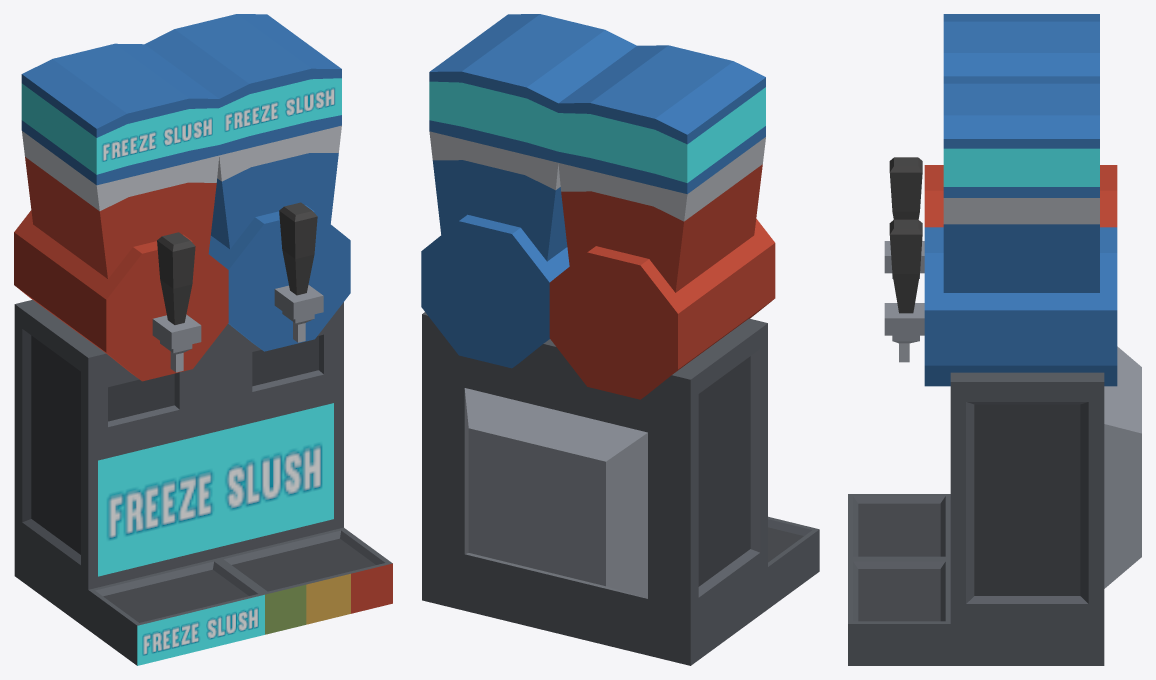
The model's file is SM_Prop_SlushieMachine_01.fbx.
The picture shows the model from 3 angles, left to right: view 1: azimuth 30°, elevation 25°; view 2: azimuth 150°, elevation 25°; view 3: azimuth 270°, elevation 25°; orthographic projection. The views are drawn at different scales.
Visible parts, largest first — view 1: SM_Prop_SlushieMachine_01; view 2: SM_Prop_SlushieMachine_01; view 3: SM_Prop_SlushieMachine_01.
Boxes of the visible parts, left/top/right/bottom form: SM_Prop_SlushieMachine_01: left=14, top=14, right=392, bottom=665; SM_Prop_SlushieMachine_01: left=421, top=14, right=819, bottom=665; SM_Prop_SlushieMachine_01: left=848, top=14, right=1141, bottom=665.
Bounding box in the file's own units: 44.09 × 84.11 × 42.05.
